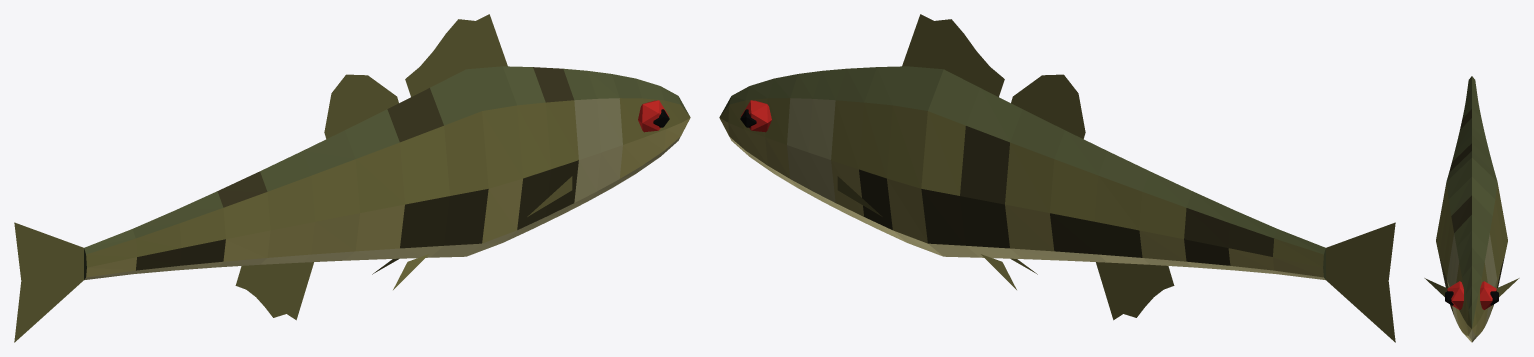
File: rock-bass.glb
3 views of the same model, side by side, from view 1: azimuth 30°, elevation 25°; view 2: azimuth 150°, elevation 25°; view 3: azimuth 270°, elevation 25° (orthographic). The views are drawn at different scales.
Parts seen in each view (by area): view 1: rock-bass; view 2: rock-bass; view 3: rock-bass.
Part boxes in pixels (<box>): rock-bass: <box>14,14,690,342</box>; rock-bass: <box>719,14,1395,342</box>; rock-bass: <box>1424,76,1519,342</box>.
Bounding box in the file's own units: 1.12 × 0.4124 × 0.1696.
